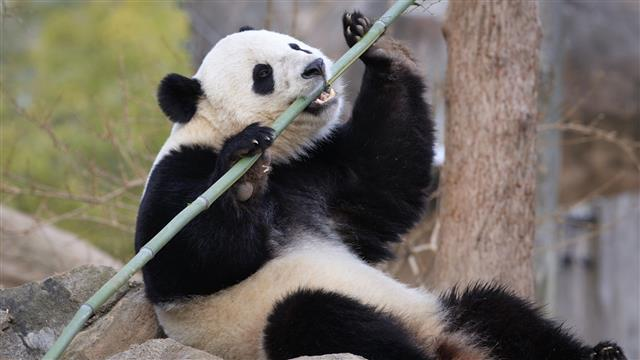panda: (137, 13, 562, 360)
